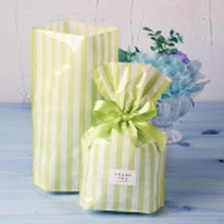snack: (23, 14, 123, 198), (71, 55, 177, 220)
